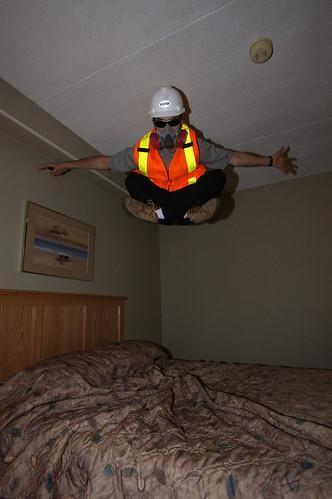vest: (132, 122, 207, 192)
